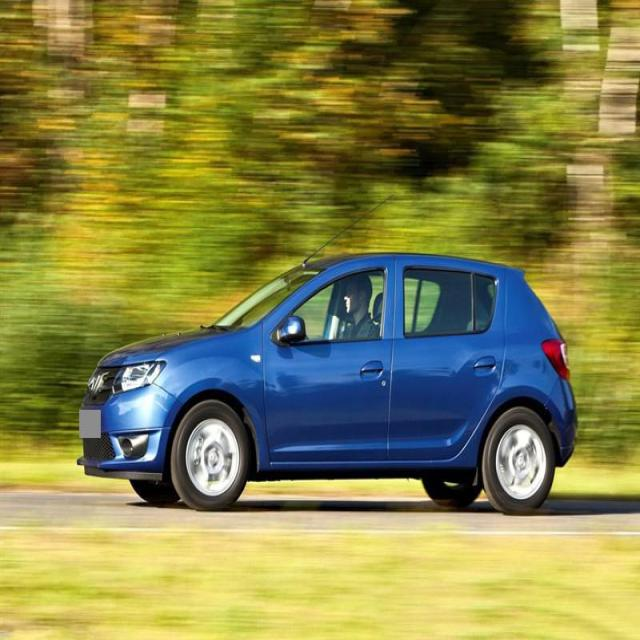back_left_side_light: (540, 338, 571, 380)
door: (392, 262, 509, 472)
front_bumper: (75, 407, 163, 481)
front_glass: (212, 266, 328, 332)
front_left_side_door: (260, 254, 398, 463)
front_left_side_light: (115, 359, 166, 393)
front_left_side_mirror: (280, 315, 306, 343)
wheel: (171, 402, 249, 511), (484, 408, 554, 514), (420, 476, 483, 512)
